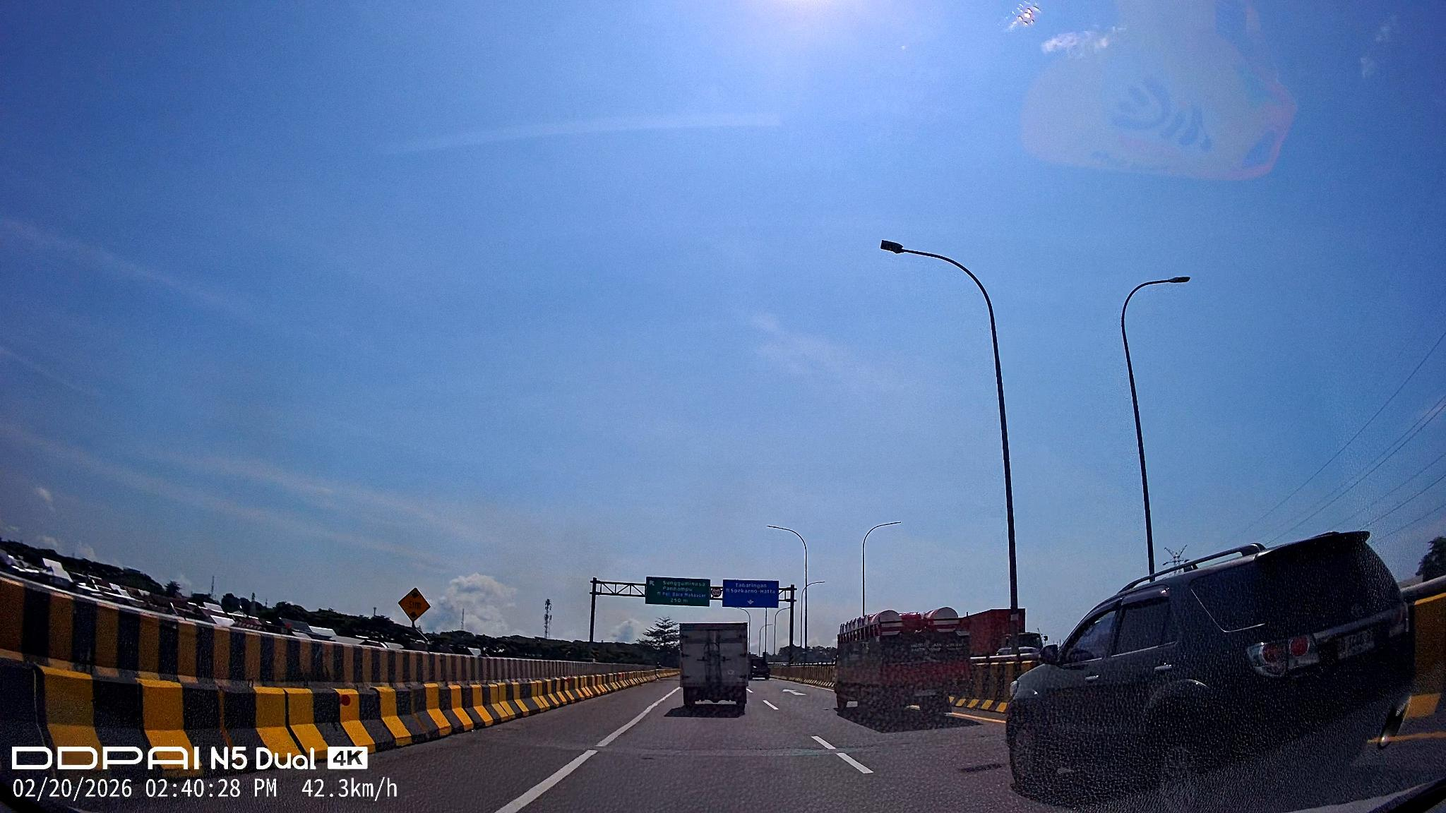rambu_teks: (645, 577, 711, 607), (722, 579, 779, 608)
